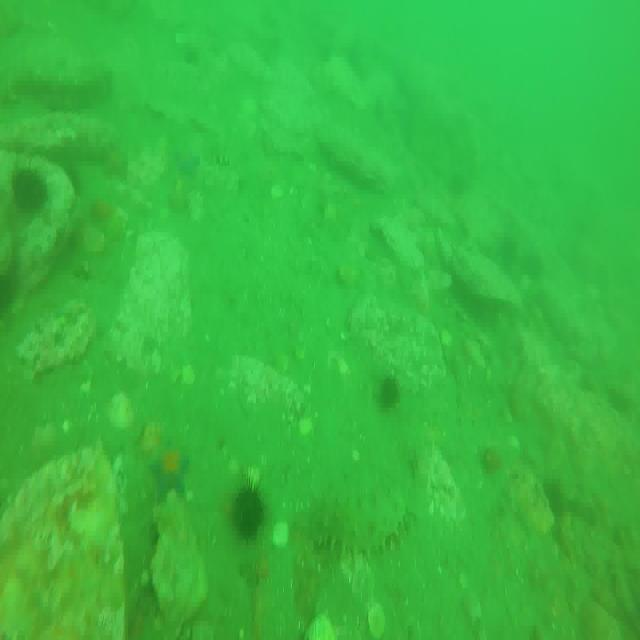echinus: (231, 478, 263, 538), (10, 169, 53, 211), (374, 373, 400, 413)
holothurian: (308, 488, 411, 550)
scallop: (368, 594, 387, 640)
starfish: (150, 442, 190, 509), (175, 143, 200, 175)
